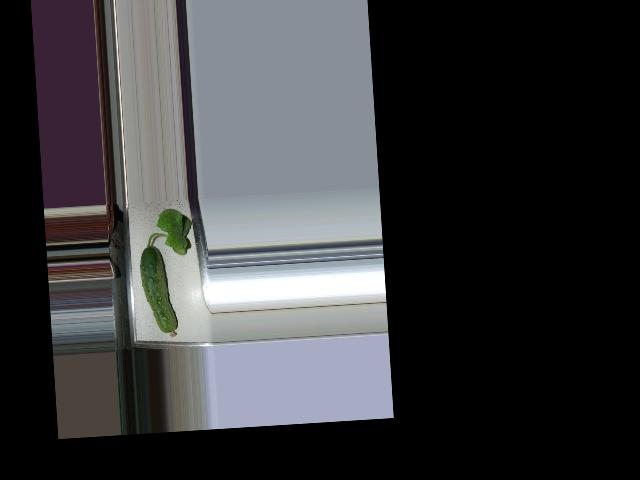cucumber: (138, 243, 178, 339)
